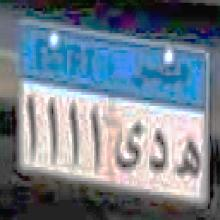1: (47, 97, 60, 160), (68, 103, 81, 165), (90, 107, 102, 167), (27, 96, 36, 158)
daal: (145, 122, 171, 179)
haa: (174, 130, 204, 180)
yaa: (115, 117, 143, 173)
